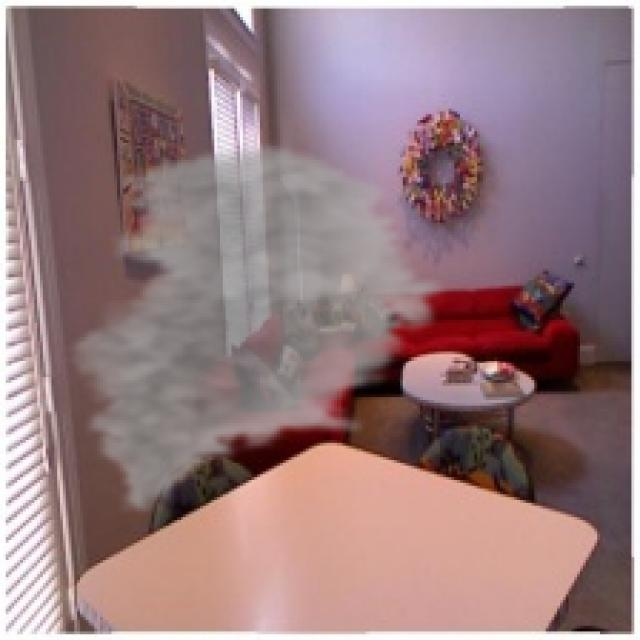smoke: (60, 140, 451, 517)
